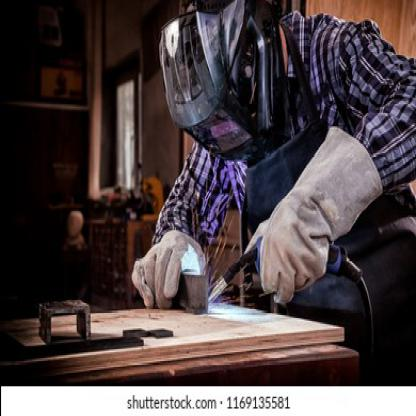with_gloves: (244, 126, 383, 306), (132, 229, 208, 310)
